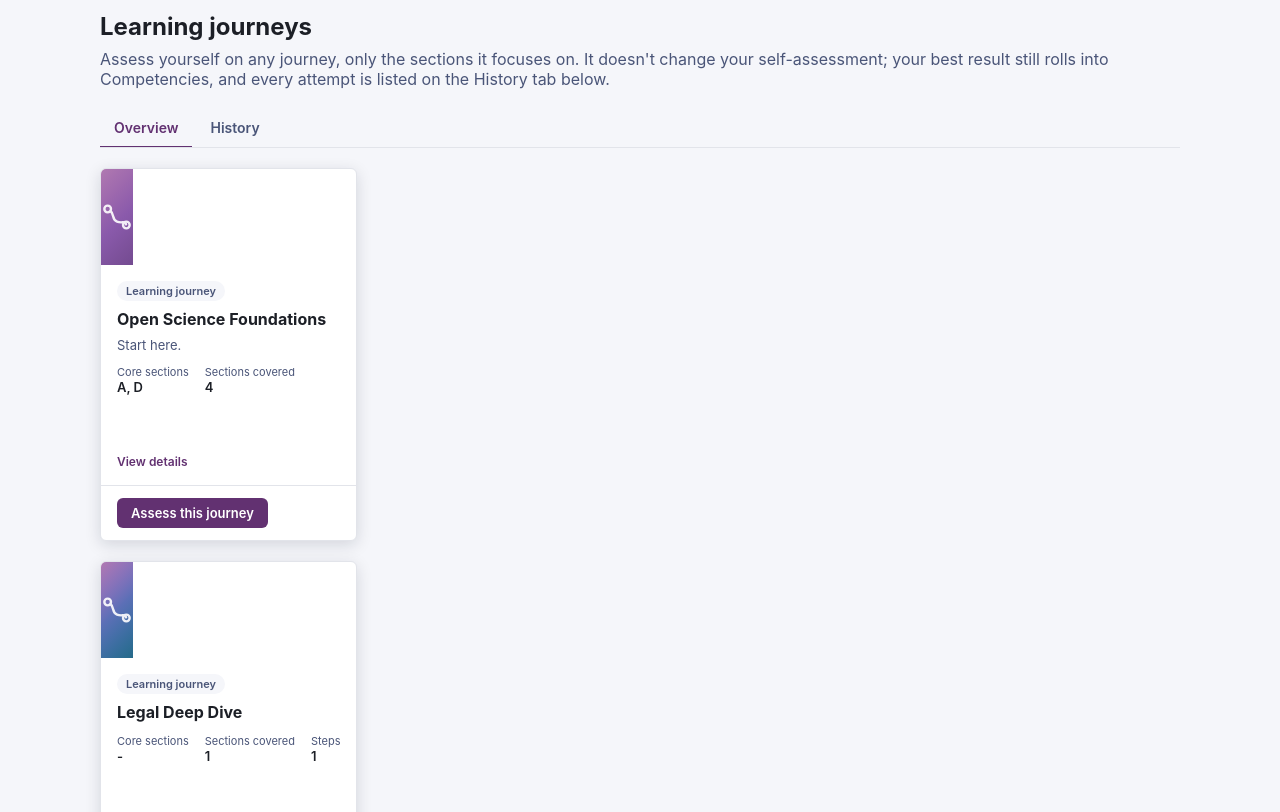
Scenario: LearningJourneysPage's History tab › shows each attempt's score breakdown
Click the tab "History": x=235, y=128 [196,109,274,148]
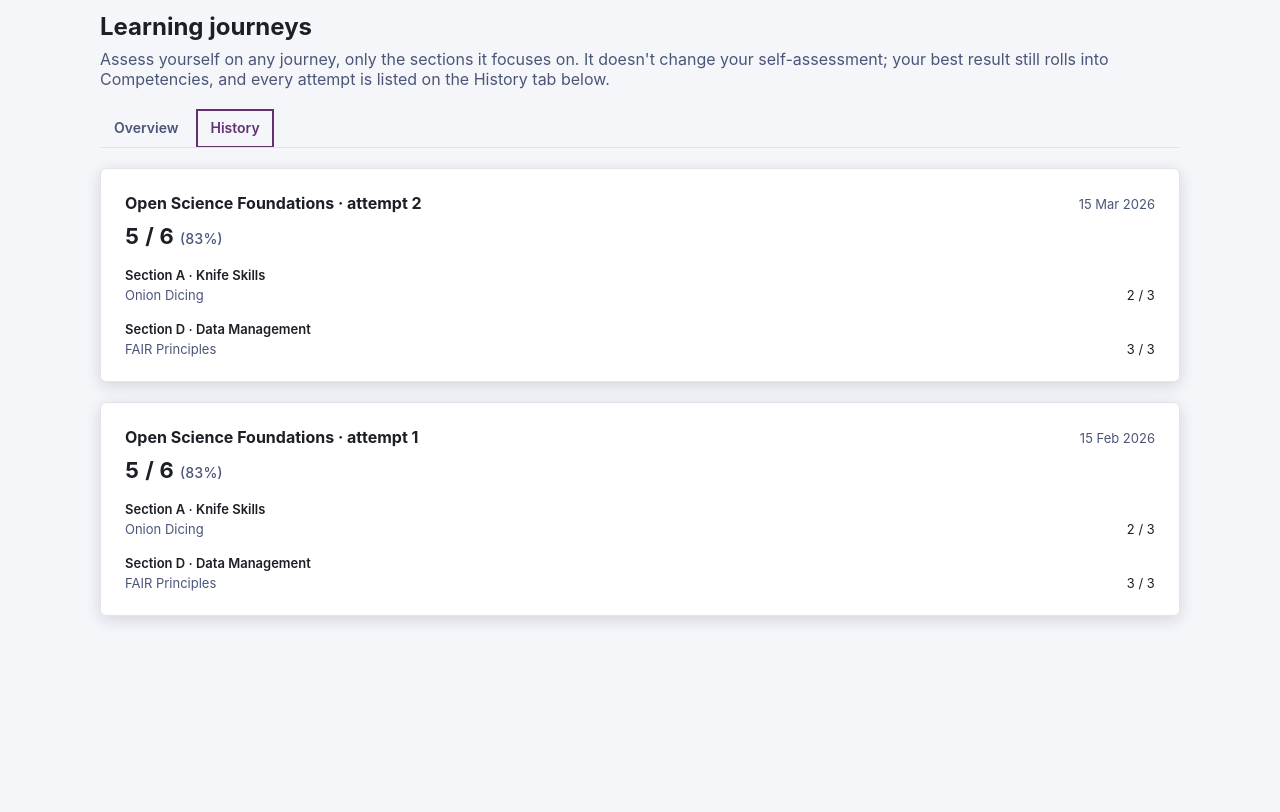
Result: the text "5 / 6" is shown 2 times at [125,223,223,249]; [125,457,223,483]
Result: the text "(83%)" is shown 2 times at [180,230,223,247]; [180,464,223,481]
Result: the number of headings "Section A · Knife Skills" is 2 at [125,267,265,283]; [125,501,265,517]
